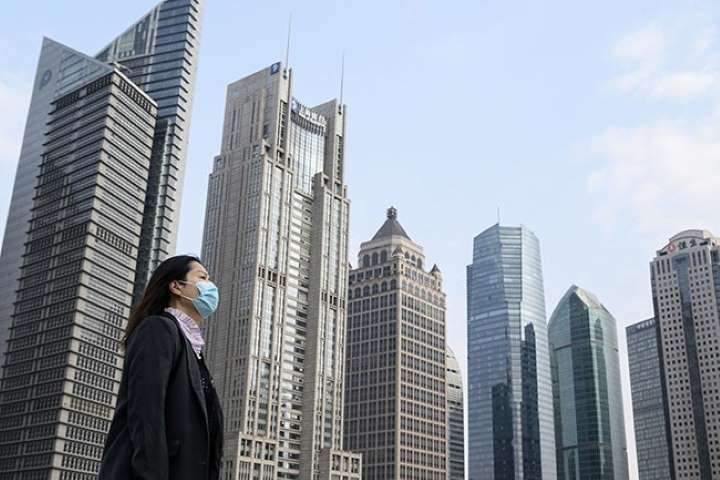surgical: (186, 278, 222, 318)
